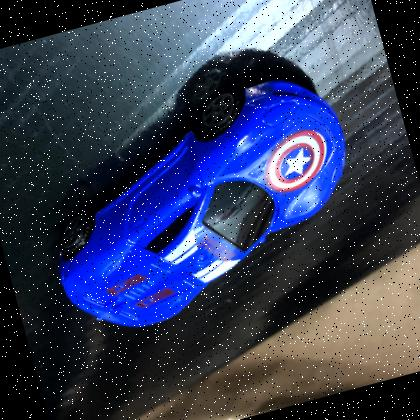Car: (58, 77, 346, 326)
